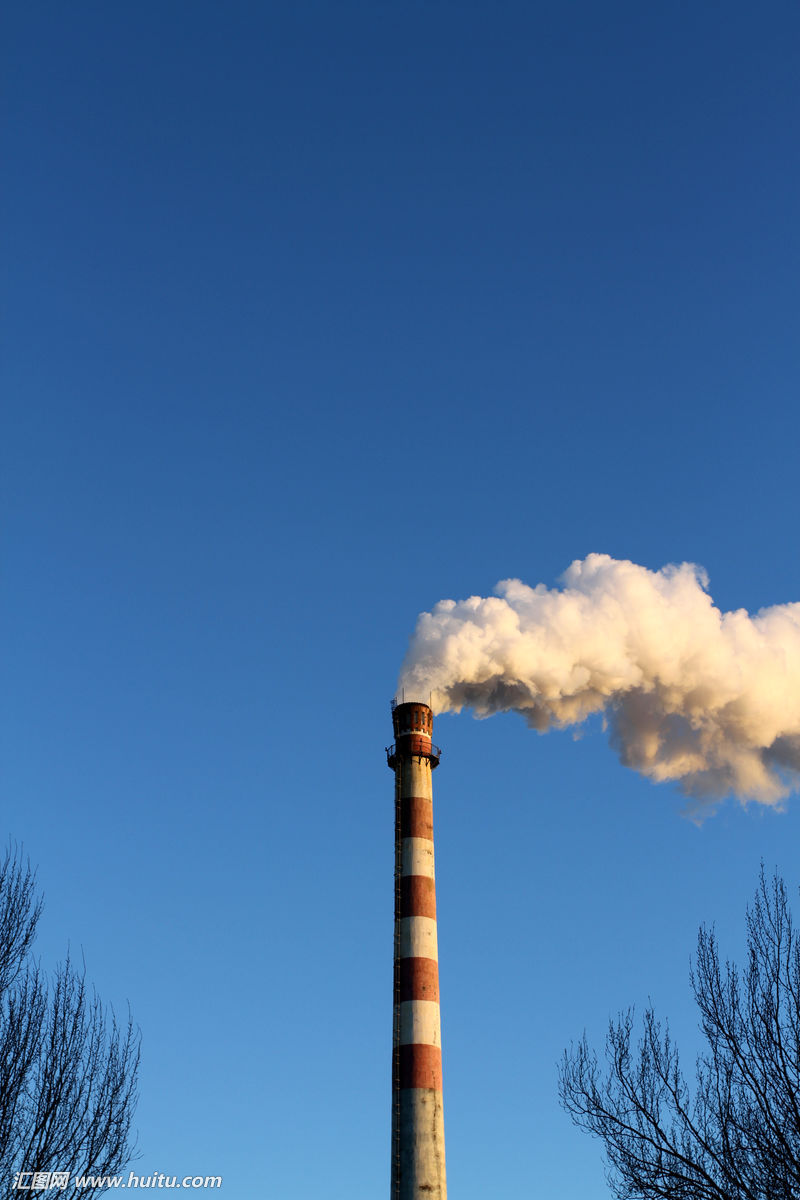dust: (382, 539, 765, 763)
